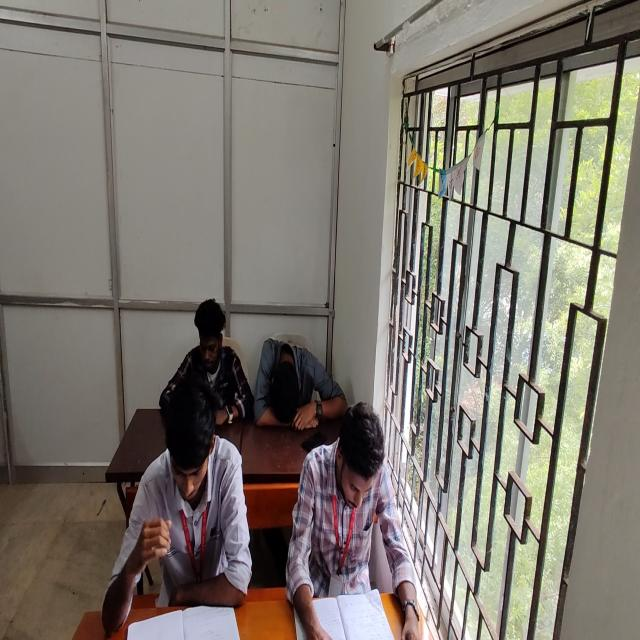reading: (104, 374, 252, 636), (286, 400, 406, 640)
sleeping: (258, 337, 347, 431)
using_mobile: (160, 296, 254, 427)
